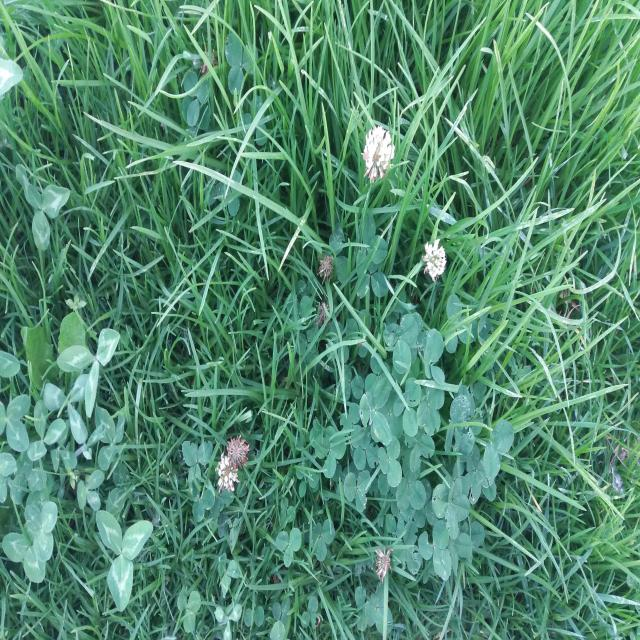Four Leaf Clover: (431, 478, 470, 540)
